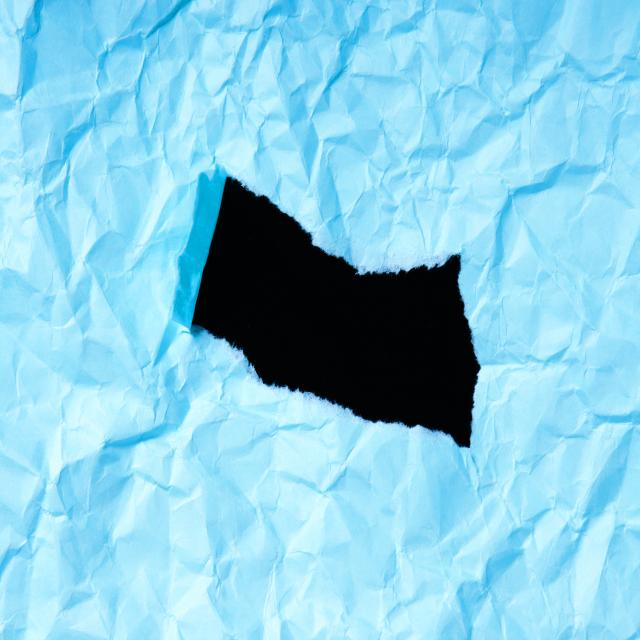paper: (79, 137, 188, 522)
